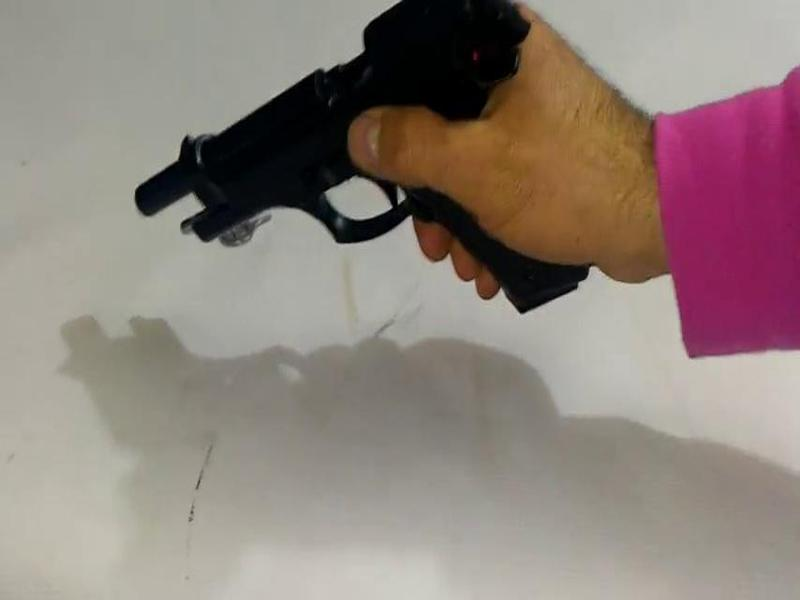Pistola: (120, 6, 627, 338)
